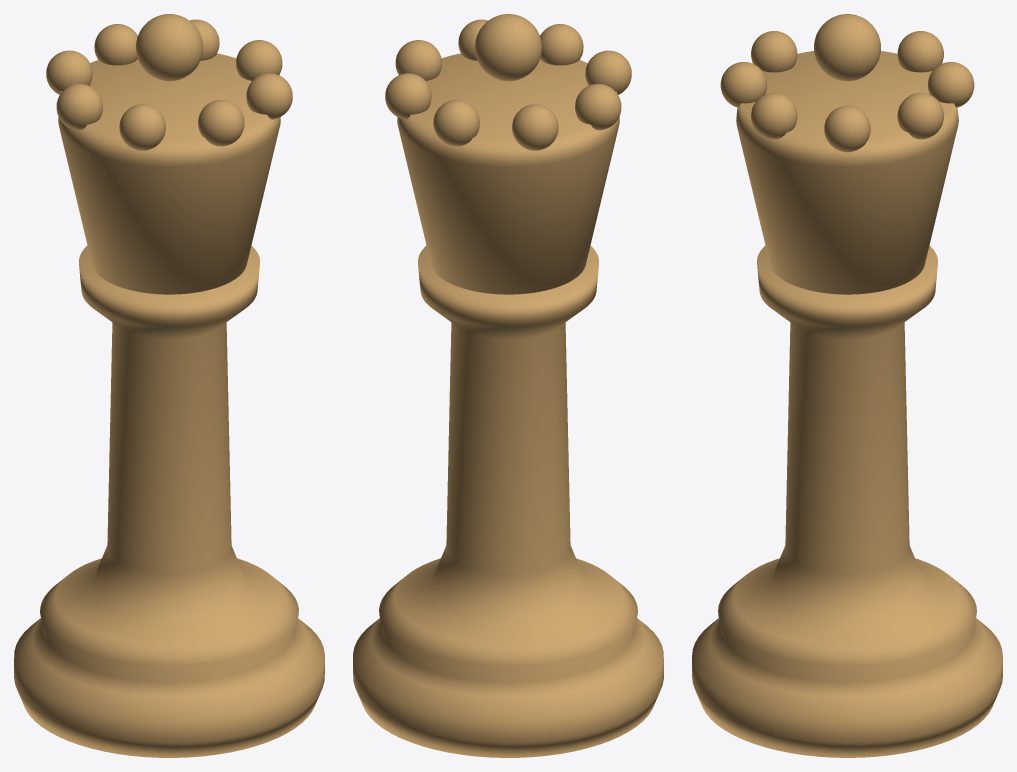
Rendered from queen.glb.
3 views of the same model, side by side, from view 1: azimuth 30°, elevation 25°; view 2: azimuth 150°, elevation 25°; view 3: azimuth 270°, elevation 25° (orthographic).
Size of the model in its own units: 1.2 by 2.89 by 1.2.
